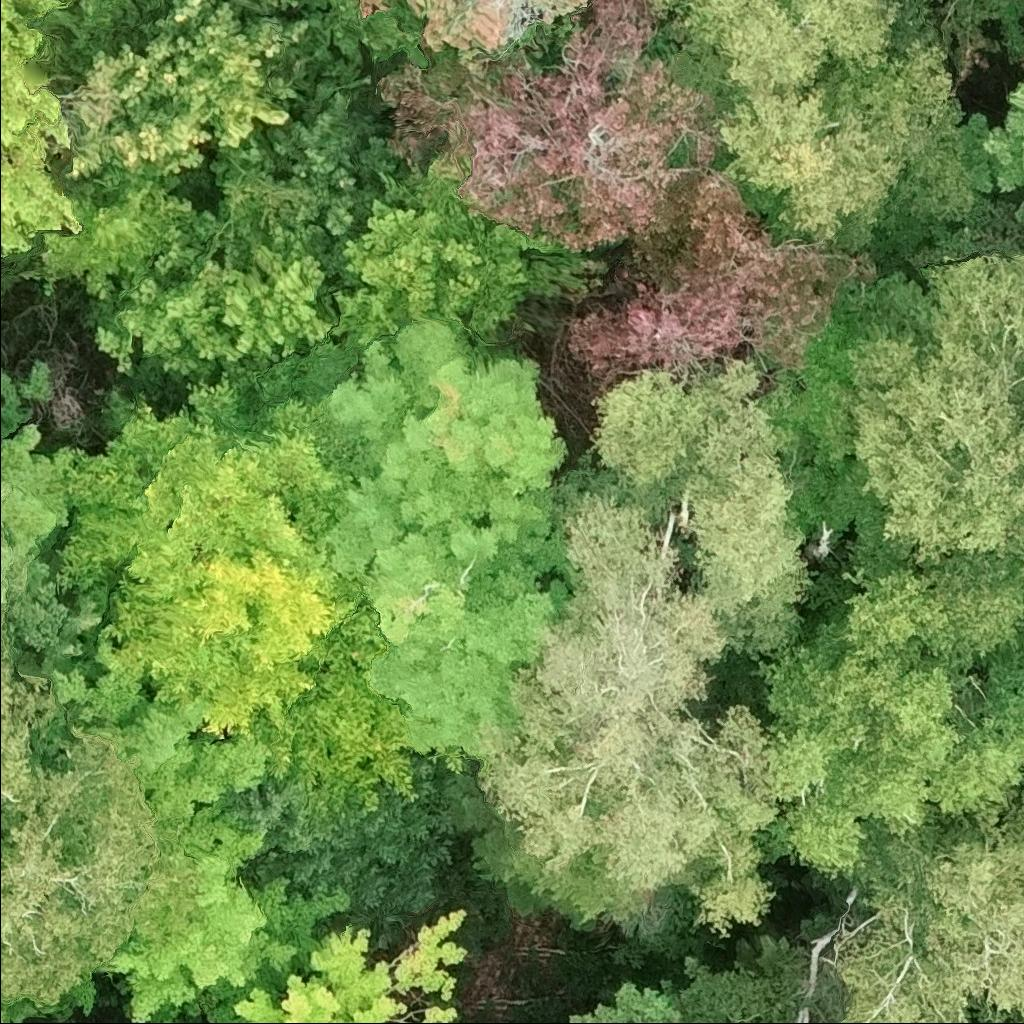crown: (49, 355, 417, 822), (474, 470, 781, 937), (286, 317, 576, 756), (35, 638, 353, 1022), (758, 253, 1023, 666), (377, 0, 728, 253), (757, 567, 1023, 879), (559, 166, 879, 395), (586, 359, 816, 668), (0, 734, 209, 1011), (713, 34, 962, 251), (831, 802, 1023, 1023), (322, 168, 546, 333), (190, 910, 469, 1023), (647, 0, 904, 103), (135, 0, 312, 147), (872, 111, 1023, 282), (89, 222, 244, 380), (55, 42, 220, 190), (259, 90, 410, 242), (193, 216, 340, 363), (0, 43, 82, 257), (0, 625, 56, 866), (401, 0, 592, 65), (0, 424, 72, 595), (977, 78, 1023, 220), (326, 278, 409, 346), (0, 0, 83, 52), (210, 130, 287, 184), (0, 460, 23, 628), (356, 0, 399, 23), (0, 1003, 48, 1023), (1011, 227, 1023, 254), (1023, 53, 1023, 55)
